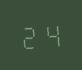four: (41, 20, 62, 48)
two: (19, 21, 40, 50)
